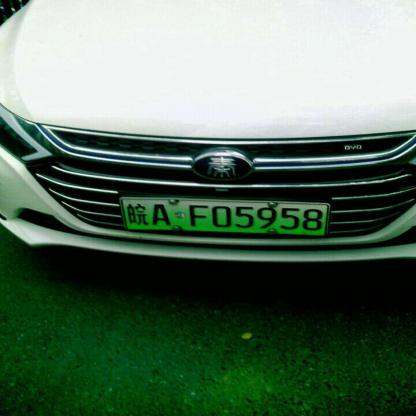lp: (118, 197, 329, 236)
